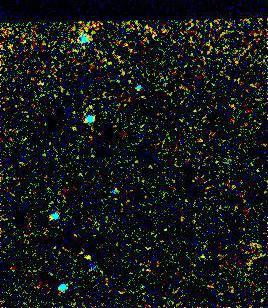star: (73, 242, 103, 272)
